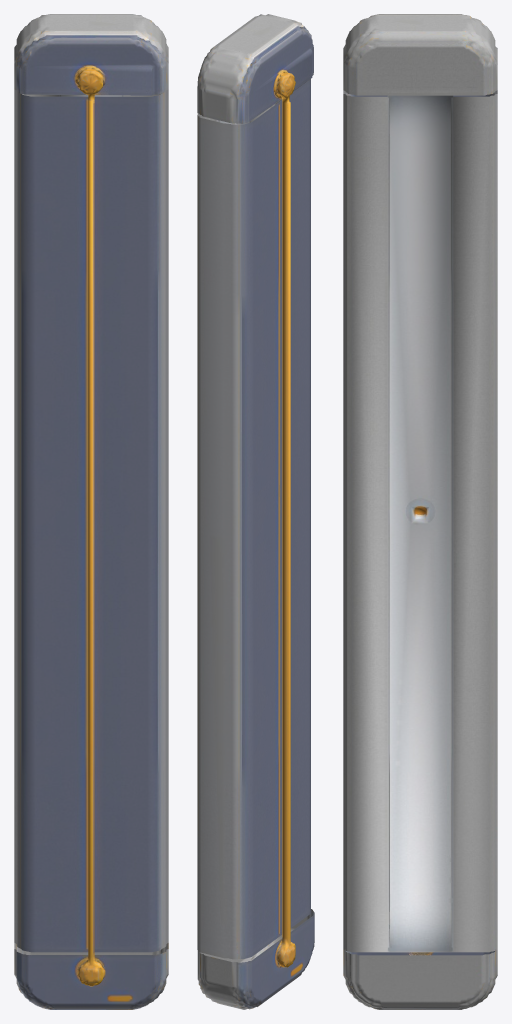
The model's file is tripo_convert_92e0b0da-b28e-4fd2-8c3f-a398481f9667.fbx.
3 views of the same model, side by side, from view 1: azimuth 90°, elevation 25°; view 2: azimuth 150°, elevation 25°; view 3: azimuth 270°, elevation 25° (orthographic). The views are drawn at different scales.
Visible parts, largest first — view 1: tripo_node_92e0b0da; view 2: tripo_node_92e0b0da; view 3: tripo_node_92e0b0da.
Part boxes in pixels (left/top/right/bottom): tripo_node_92e0b0da: left=14, top=14, right=168, bottom=1009; tripo_node_92e0b0da: left=197, top=14, right=314, bottom=1009; tripo_node_92e0b0da: left=343, top=14, right=497, bottom=1009.
Bounding box in the file's own units: 0.0684 × 0.998 × 0.1426.
Materials: 1 (1 with a texture image).
